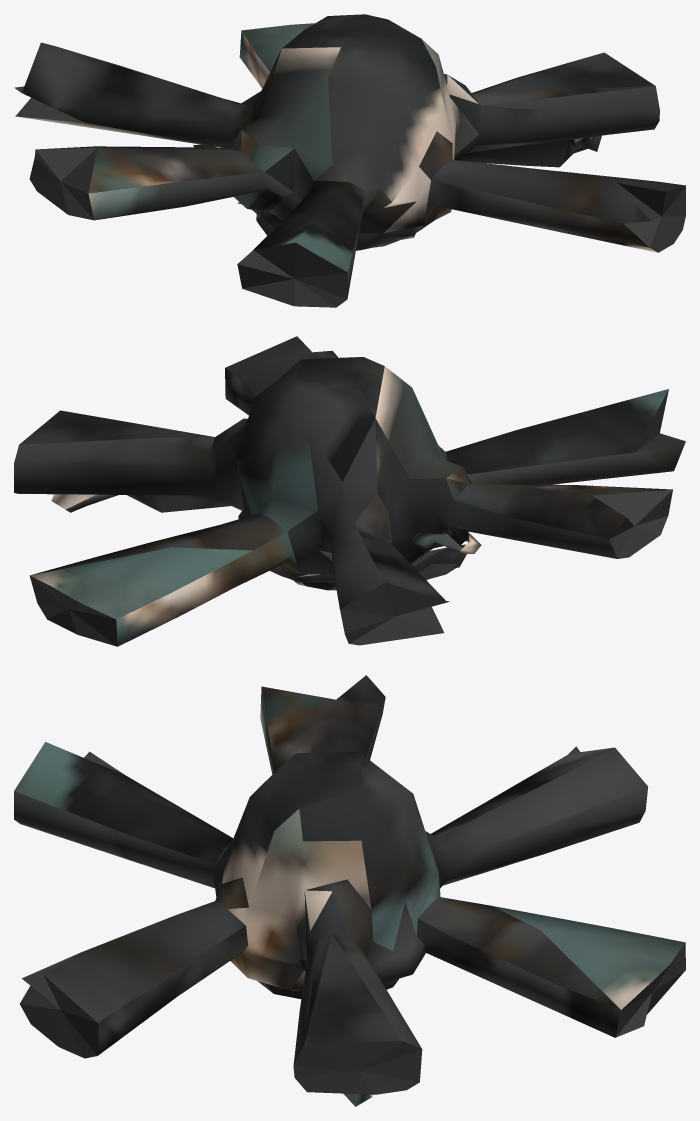
File: SM_Extractor_Rotor_FL.fbx
The picture shows the model from 3 angles, top to bottom: view 1: azimuth 30°, elevation 25°; view 2: azimuth 150°, elevation 25°; view 3: azimuth 270°, elevation 25°; orthographic projection. The views are drawn at different scales.
Parts seen in each view (by area): view 1: SM_Extractor_Rotor_FL; view 2: SM_Extractor_Rotor_FL; view 3: SM_Extractor_Rotor_FL.
Boxes of the visible parts, x1,y1,x2,y2 form: SM_Extractor_Rotor_FL: [14, 14, 685, 307]; SM_Extractor_Rotor_FL: [14, 336, 685, 646]; SM_Extractor_Rotor_FL: [14, 675, 685, 1106].
Bounding box in the file's own units: 0.4387 × 0.1377 × 0.406.
